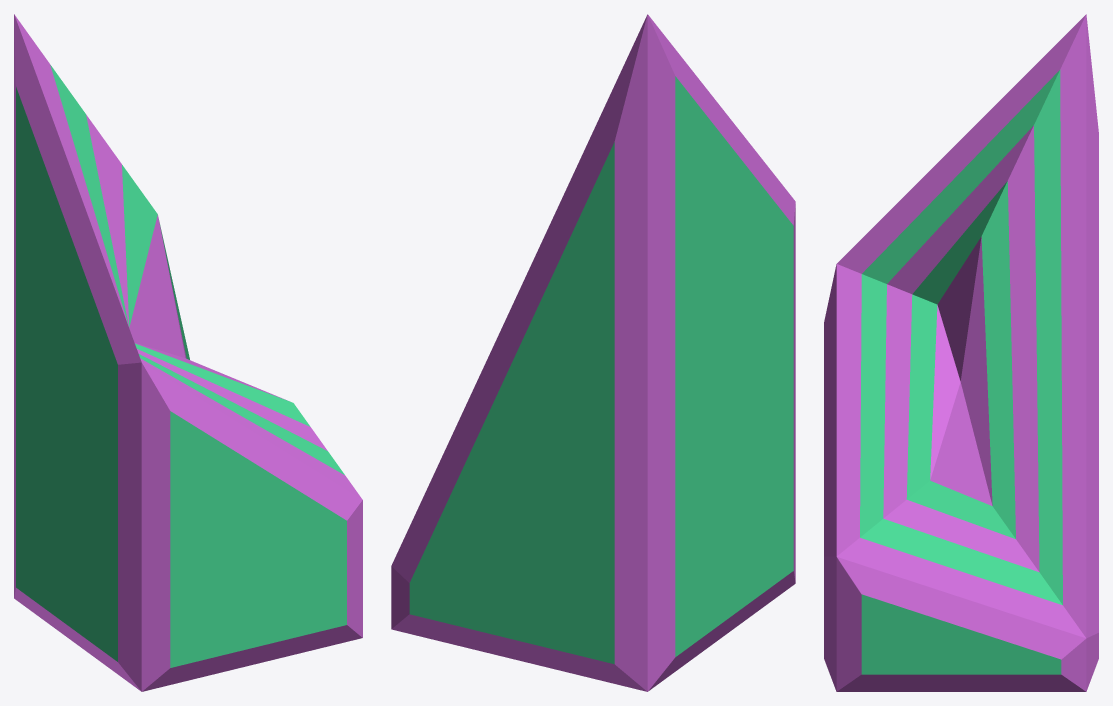
The model's file is topNotch.gltf.
3 renders of one model, left to right at view 1: azimuth 30°, elevation 25°; view 2: azimuth 150°, elevation 25°; view 3: azimuth 270°, elevation 25°, orthographic. The views are drawn at different scales.
Parts seen in each view (by area): view 1: Cube.001, Cube; view 2: Cube.001, Cube; view 3: Cube, Cube.001.
Boxes of the visible parts, bbox=[...] form: Cube.001: bbox=[16, 65, 346, 667]; Cube: bbox=[14, 14, 362, 691]; Cube.001: bbox=[409, 76, 793, 664]; Cube: bbox=[391, 14, 795, 691]; Cube: bbox=[824, 14, 1098, 691]; Cube.001: bbox=[860, 70, 1062, 674].
Size of the model in its own units: 2.2 by 5.05 by 2.2.
